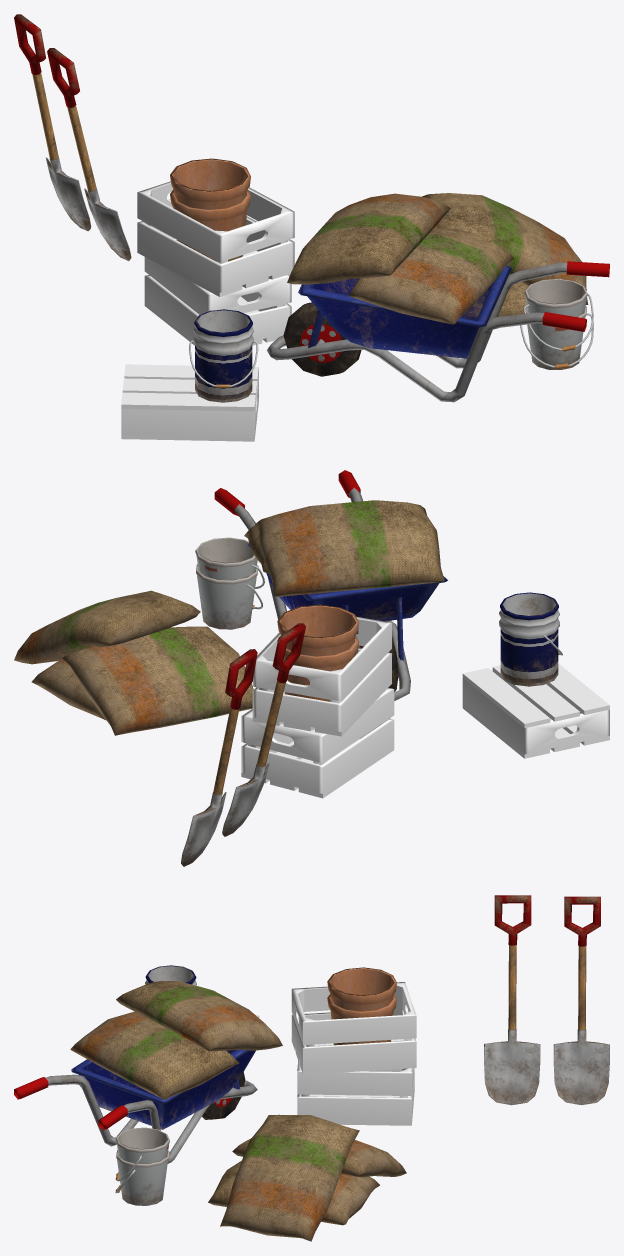
File: a_sch_ground01_obj_farmtools02.gltf
The picture shows the model from 3 angles, top to bottom: view 1: azimuth 30°, elevation 25°; view 2: azimuth 150°, elevation 25°; view 3: azimuth 270°, elevation 25°; orthographic projection. The views are drawn at different scales.
Visible parts, largest first — view 1: farmtools_02_shape:a_sch_ground01_farmtools02, farmtools_02_shape:a_sch_room02_motif_box01, farmtools_02_shape:a_sch_ground01_farmtools01; view 2: farmtools_02_shape:a_sch_ground01_farmtools02, farmtools_02_shape:a_sch_room02_motif_box01, farmtools_02_shape:a_sch_ground01_farmtools01; view 3: farmtools_02_shape:a_sch_ground01_farmtools02, farmtools_02_shape:a_sch_room02_motif_box01, farmtools_02_shape:a_sch_ground01_farmtools01.
Boxes of the visible parts, bbox=[...] form: farmtools_02_shape:a_sch_ground01_farmtools02: bbox=[14, 14, 593, 402]; farmtools_02_shape:a_sch_room02_motif_box01: bbox=[121, 181, 294, 441]; farmtools_02_shape:a_sch_ground01_farmtools01: bbox=[170, 158, 609, 402]; farmtools_02_shape:a_sch_ground01_farmtools02: bbox=[14, 500, 562, 866]; farmtools_02_shape:a_sch_room02_motif_box01: bbox=[241, 616, 609, 798]; farmtools_02_shape:a_sch_ground01_farmtools01: bbox=[214, 470, 447, 701]; farmtools_02_shape:a_sch_ground01_farmtools02: bbox=[70, 895, 609, 1241]; farmtools_02_shape:a_sch_room02_motif_box01: bbox=[255, 982, 416, 1125]; farmtools_02_shape:a_sch_ground01_farmtools01: bbox=[14, 967, 396, 1163].
Size of what is drawn, in the model's own units: 3.15 by 1.27 by 3.64.
3 materials, 2 textured.
